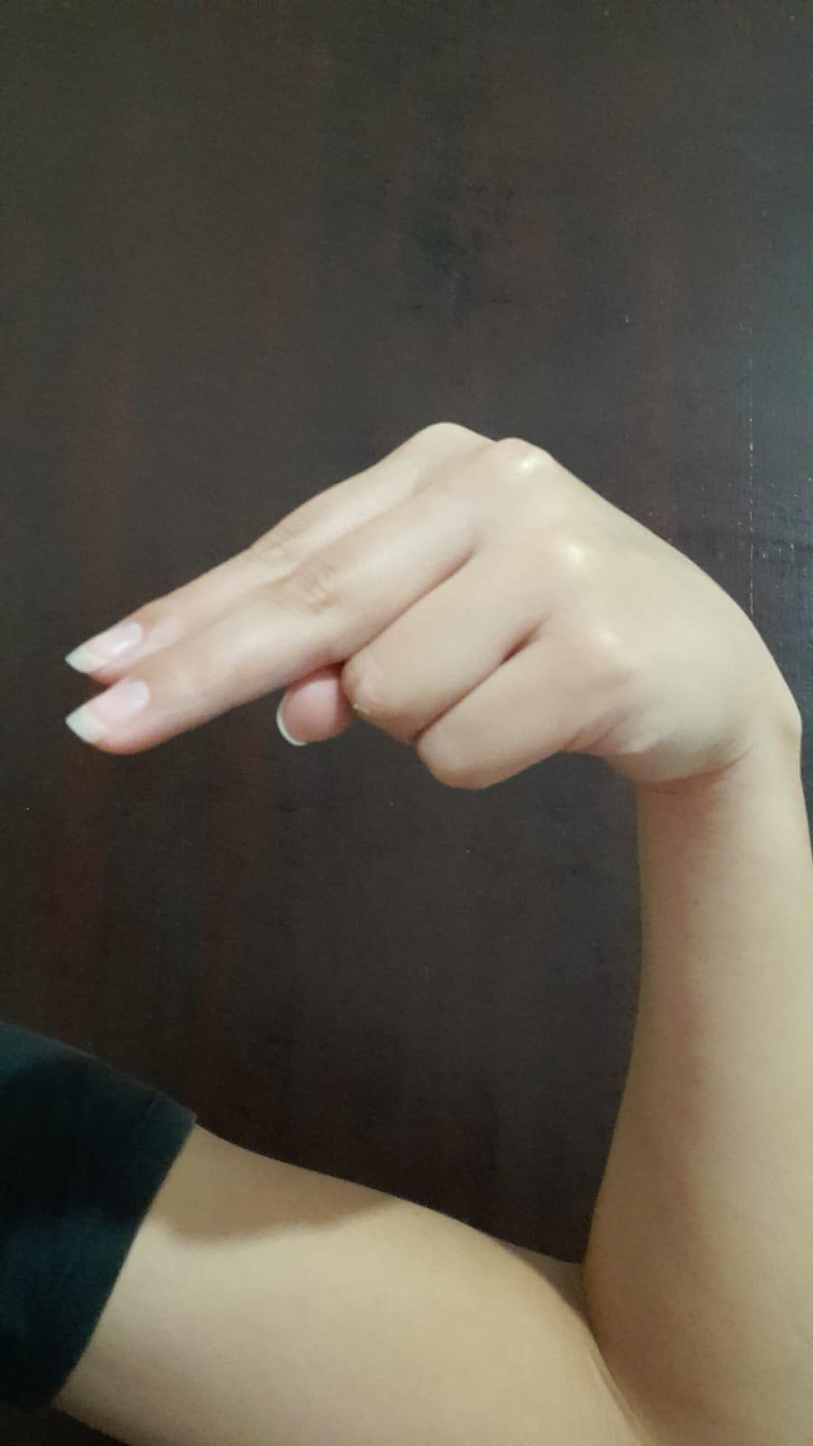N: (54, 407, 791, 796)
